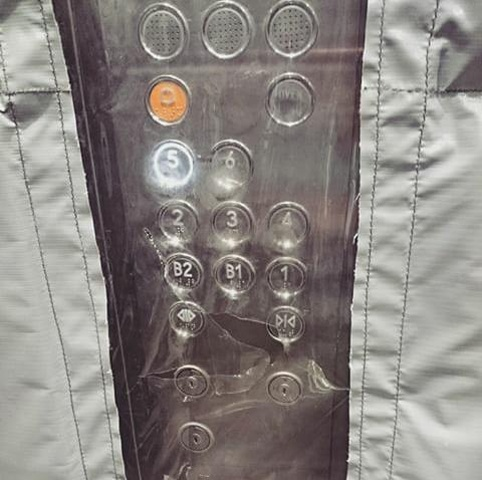1: (265, 254, 309, 297)
2: (156, 197, 200, 243)
3: (208, 199, 256, 245)
4: (264, 200, 311, 248)
5: (149, 137, 195, 187)
6: (205, 140, 254, 190)
B1: (211, 253, 257, 296)
B2: (163, 253, 205, 293)
alarm: (142, 73, 191, 127)
blur: (263, 70, 315, 128)
close: (265, 305, 306, 345)
keyhole: (173, 364, 212, 401), (264, 370, 303, 407), (176, 422, 215, 454)
open: (166, 300, 208, 338)
speaker: (198, 1, 254, 61), (264, 1, 319, 60), (135, 2, 188, 63)
